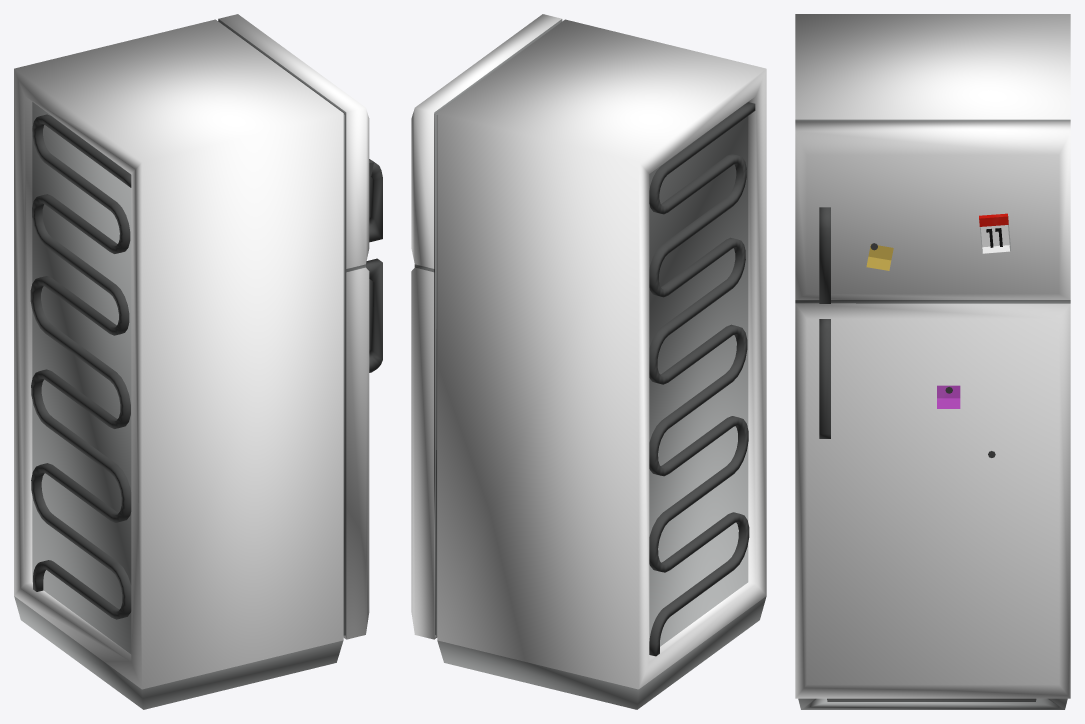
Rendered from fridge.gltf.
3 renders of one model, left to right at view 1: azimuth 30°, elevation 25°; view 2: azimuth 150°, elevation 25°; view 3: azimuth 270°, elevation 25°, orthographic. The views are drawn at different scales.
Visible parts, largest first — view 1: Fridge; view 2: Fridge; view 3: Fridge.
Boxes of the visible parts, <box> form: Fridge: <box>14,14,382,709</box>; Fridge: <box>411,14,766,709</box>; Fridge: <box>795,14,1070,709</box>.
Bounding box in the file's own units: 0.8694 × 1.81 × 0.7646.
Materials: 1 (1 with a texture image).
